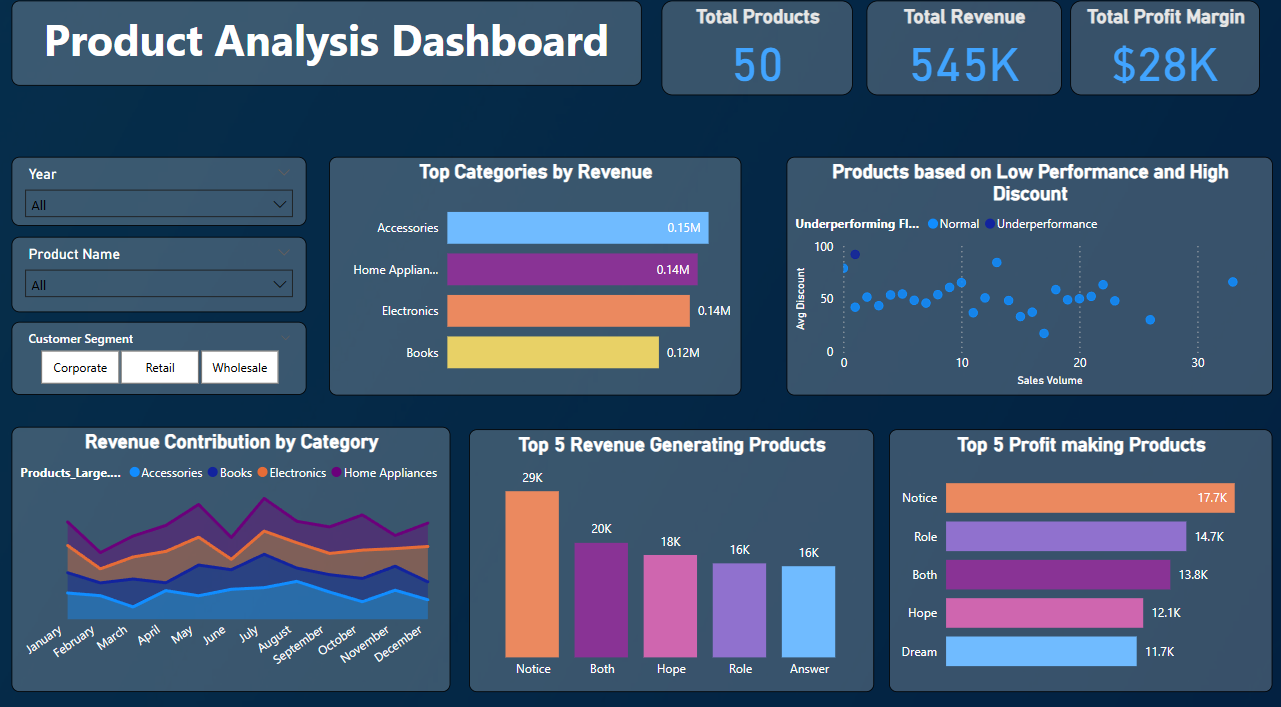

The page's visual inventory and layout, read from the dashboard file:
{"tool":"powerbi","page":{"name":"Product Analysis","canvas":[1280,720],"ordinal":1},"visuals":[{"type":"barChart","title":"Top Categories by Revenue","fields":{"Category":["Sales data.Products_Large.Category"],"Y":["Sum(Sales data.Sales_Large.Revenue)"]},"box":[328.4,167.9,410.5,237.6],"z":0},{"type":"stackedAreaChart","title":"Revenue Contribution by Category","fields":{"Y":["Sum(Sales data.Sales_Large.Revenue)"],"Series":["Sales data.Products_Large.Category"],"Category":["Sales data.Orders_Large.OrderDate.Variation.Date Hierarchy.Month"]},"box":[12.4,436.6,436.6,263.7],"z":1000},{"type":"scatterChart","title":"Products based on Low Performance and High Discount","fields":{"Y":["Avg(Sales data.Sales_Large.Discounts)"],"Series":["Sales data.Underperforming Flag"],"X":["Sales data.Sales Volume"]},"box":[783.7,167.9,483.9,237.6],"z":2000},{"type":"textbox","box":[12.4,12.4,627,84.6],"z":3000},{"type":"columnChart","title":"Top 5 Revenue Generating Products","fields":{"Category":["Sales data.Products_Large.ProductName"],"Y":["Sum(Sales data.Sales_Large.Revenue)"]},"box":[467.7,439.1,403,261.2],"z":4000},{"type":"slicer","fields":{"Values":["Sales data.Orders_Large.OrderDate.Variation.Date Hierarchy.Year"]},"box":[12.3,167.4,293.7,68.6],"z":5000},{"type":"slicer","fields":{"Values":["Sales data.Products_Large.ProductName"]},"box":[12.3,247,293.7,75.5],"z":6000},{"type":"slicer","fields":{"Values":["Sales data.Segment"]},"box":[12.3,332.1,293.7,72.7],"z":7000},{"type":"barChart","title":"Top 5 Profit making Products","fields":{"Y":["Sum(Sales data.Profit)"],"Category":["Sales data.Products_Large.ProductName"]},"box":[885.7,439.1,381.9,261.2],"z":8000},{"type":"card","title":"Total Products","fields":{"Values":["CountNonNull(Products_Large.ProductID)"]},"box":[659.3,12.4,190.3,94.5],"z":9000},{"type":"card","title":"Total Profit Margin","fields":{"Values":["Sum(Sales data.Profit Margin)"]},"box":[1066.1,12.4,189.1,94.5],"z":10000},{"type":"card","title":"Total Revenue","fields":{"Values":["Sum(Sales data.Sales_Large.Revenue)"]},"box":[863.3,12.4,194.1,94.5],"z":11000}]}

Visuals, with their boxes in screenshot pixels (x1, y1, x2, y2), scaled from the page's 1280x720 canvas onto the 1281x707 screenshot:
"Top Categories by Revenue" barChart: {"x1": 329, "y1": 165, "x2": 739, "y2": 398}
"Revenue Contribution by Category" stackedAreaChart: {"x1": 12, "y1": 429, "x2": 449, "y2": 688}
"Products based on Low Performance and High Discount" scatterChart: {"x1": 784, "y1": 165, "x2": 1269, "y2": 398}
textbox: {"x1": 12, "y1": 12, "x2": 640, "y2": 95}
"Top 5 Revenue Generating Products" columnChart: {"x1": 468, "y1": 431, "x2": 871, "y2": 688}
slicer - Sales data.Orders_Large.OrderDate.Variation.Date Hierarchy.Year: {"x1": 12, "y1": 164, "x2": 306, "y2": 232}
slicer - Sales data.Products_Large.ProductName: {"x1": 12, "y1": 243, "x2": 306, "y2": 317}
slicer - Sales data.Segment: {"x1": 12, "y1": 326, "x2": 306, "y2": 397}
"Top 5 Profit making Products" barChart: {"x1": 886, "y1": 431, "x2": 1269, "y2": 688}
"Total Products" card: {"x1": 660, "y1": 12, "x2": 850, "y2": 105}
"Total Profit Margin" card: {"x1": 1067, "y1": 12, "x2": 1256, "y2": 105}
"Total Revenue" card: {"x1": 864, "y1": 12, "x2": 1058, "y2": 105}
